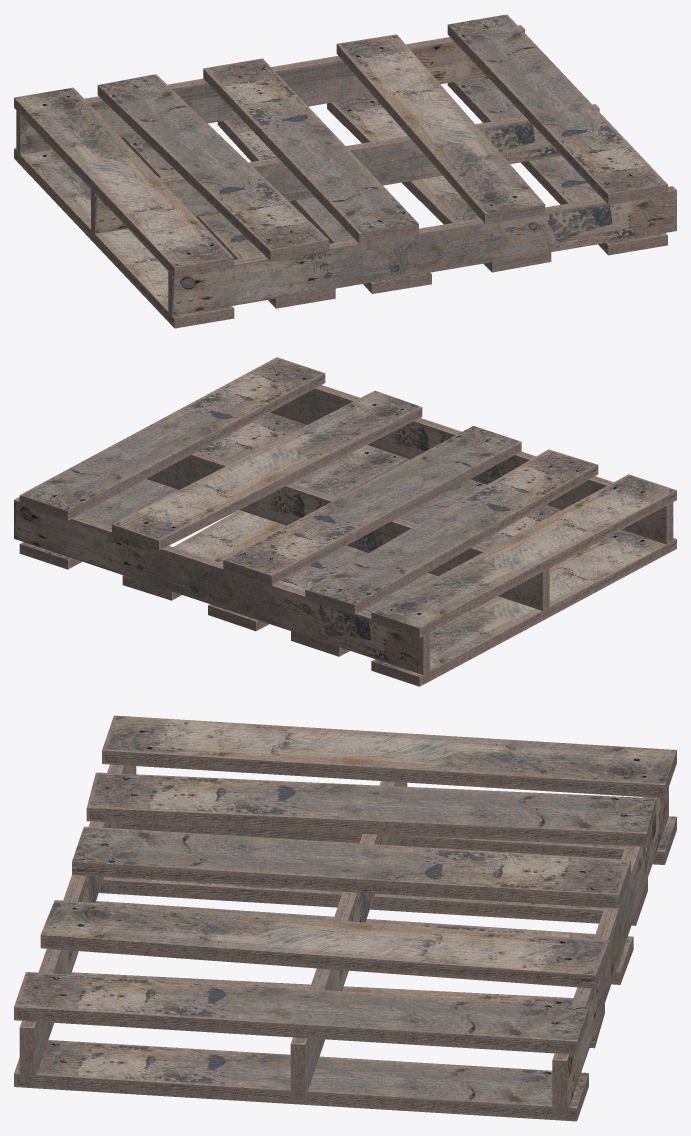
File: Palet_v1_single (6).glb
3 renders of one model, top to bottom at view 1: azimuth 30°, elevation 25°; view 2: azimuth 150°, elevation 25°; view 3: azimuth 270°, elevation 25°, orthographic. The views are drawn at different scales.
Parts seen in each view (by area): view 1: Palet_v1_single (6); view 2: Palet_v1_single (6); view 3: Palet_v1_single (6).
Boxes of the visible parts, x1,y1,x2,y2 form: Palet_v1_single (6): (14, 14, 676, 328); Palet_v1_single (6): (14, 357, 676, 686); Palet_v1_single (6): (14, 715, 676, 1121).
Size of the model in its own units: 1.93 by 0.2164 by 1.63.
Materials: 1 (1 with a texture image).
